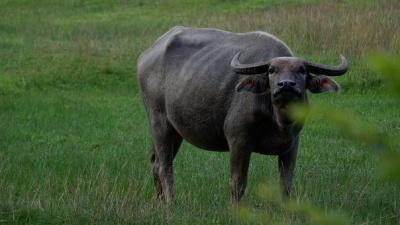buffalo: (136, 26, 350, 205)
